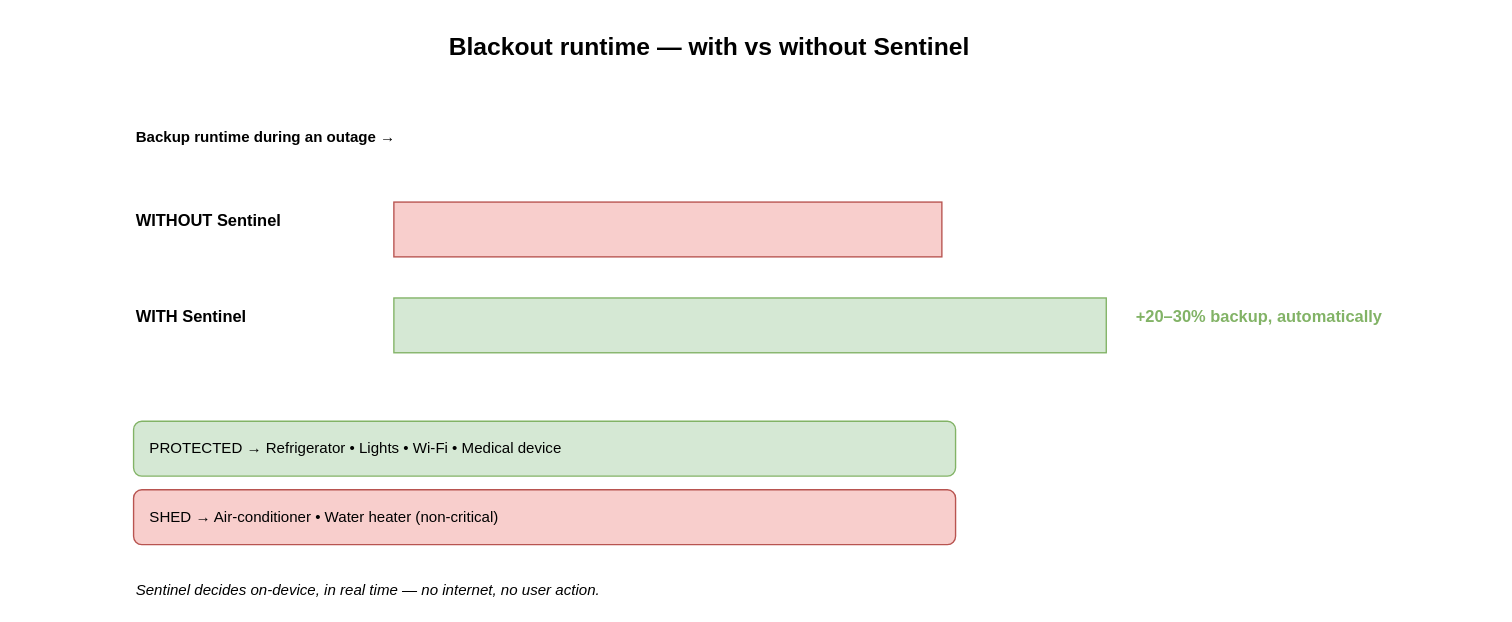
Image size: 1512x622. Some labels were removed from this diagram. The centre of each missing label's shape, as x and y in pixels:
"4.0 h — all loads share the battery" goes at (667,229).
"5.2 h — critical loads protected, others shed" goes at (749,325).
